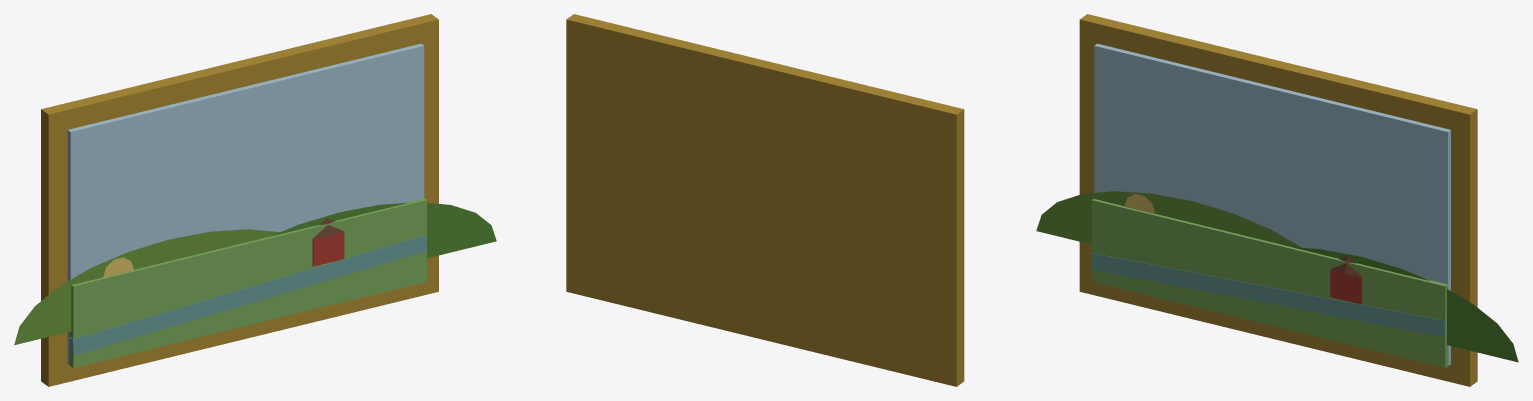
Rendered from valley_painting.glb.
3 renders of one model, left to right at view 1: azimuth 30°, elevation 25°; view 2: azimuth 150°, elevation 25°; view 3: azimuth 330°, elevation 25°, orthographic.
Parts seen in each view (by area): view 1: furniture-valley_painting; view 2: furniture-valley_painting; view 3: furniture-valley_painting.
Part boxes in pixels (x1,y1,x2,y2): furniture-valley_painting: (14, 14, 496, 386); furniture-valley_painting: (566, 14, 964, 386); furniture-valley_painting: (1036, 14, 1518, 386).
Bounding box in the file's own units: 1.86 × 1 × 0.1051.
